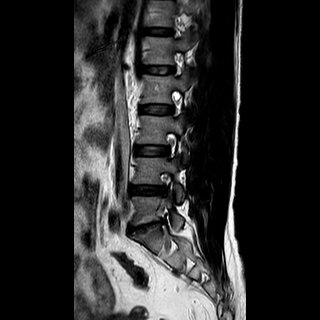RFS0: (164, 47, 188, 81), (163, 84, 185, 120)
